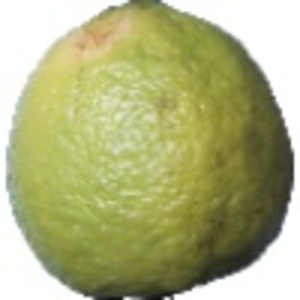limão: (7, 1, 294, 300)
